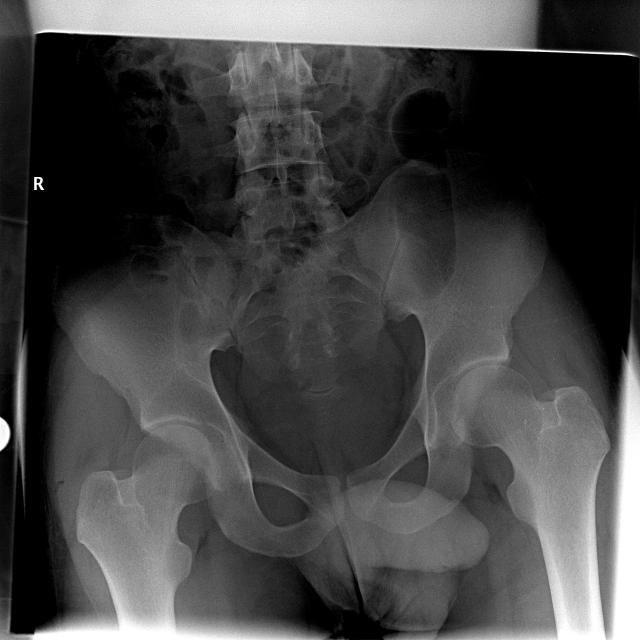normal-left: (450, 365, 611, 588)
normal-right: (76, 424, 223, 640)
